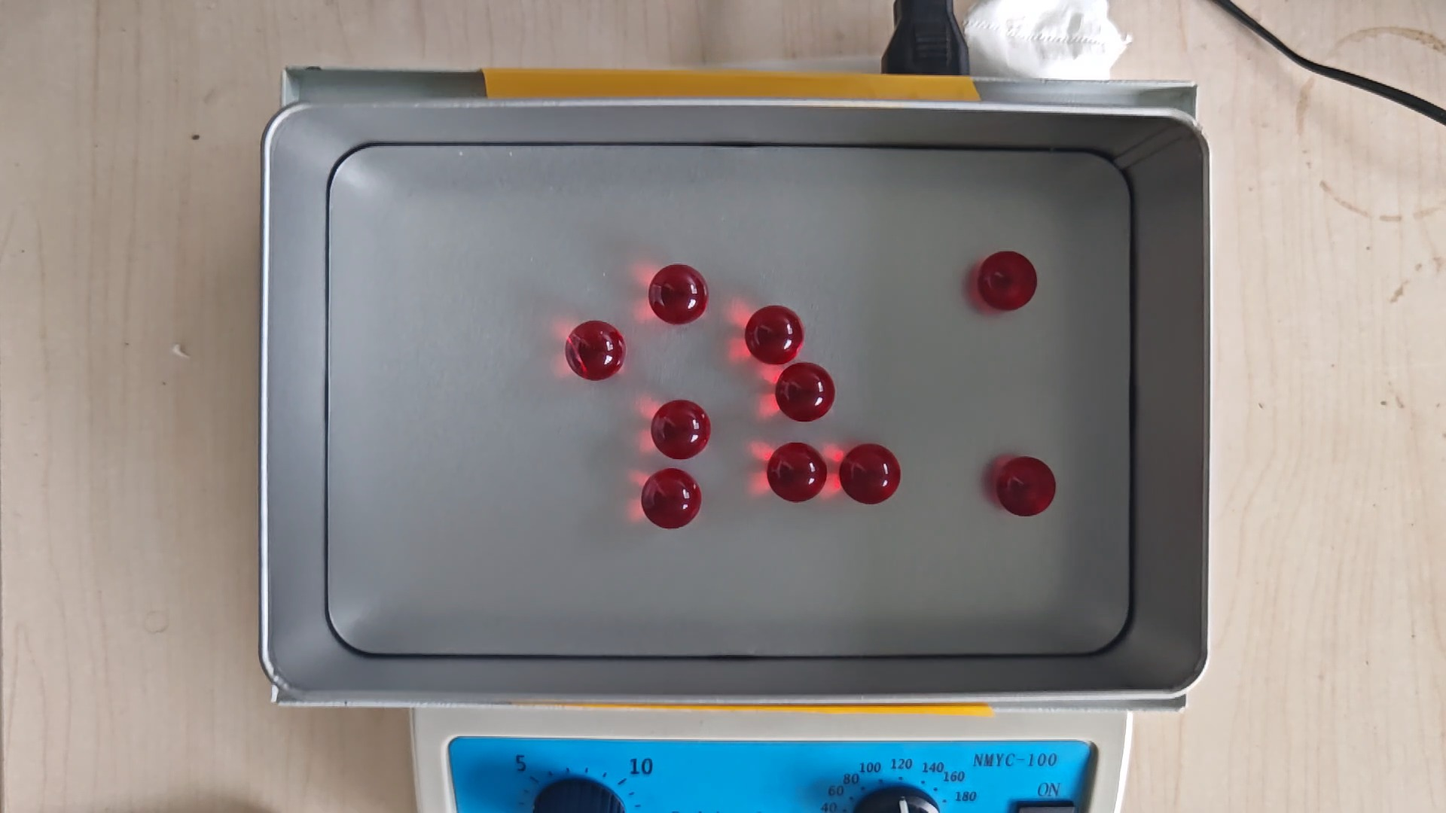ball: (996, 455, 1057, 518), (641, 468, 702, 530), (768, 441, 828, 504), (566, 320, 627, 381), (978, 250, 1038, 312), (841, 443, 901, 505), (775, 362, 835, 423), (649, 263, 708, 325), (745, 304, 804, 365), (651, 398, 710, 459)
container: (319, 142, 1139, 655)
